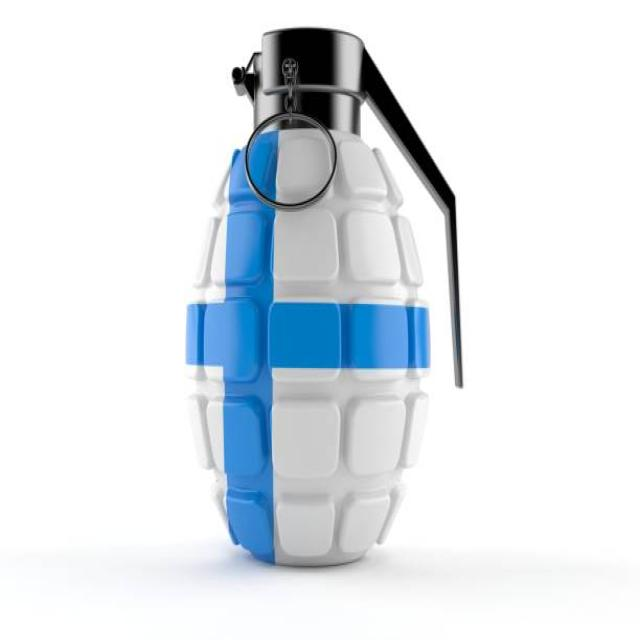grenade: (179, 26, 479, 582)
